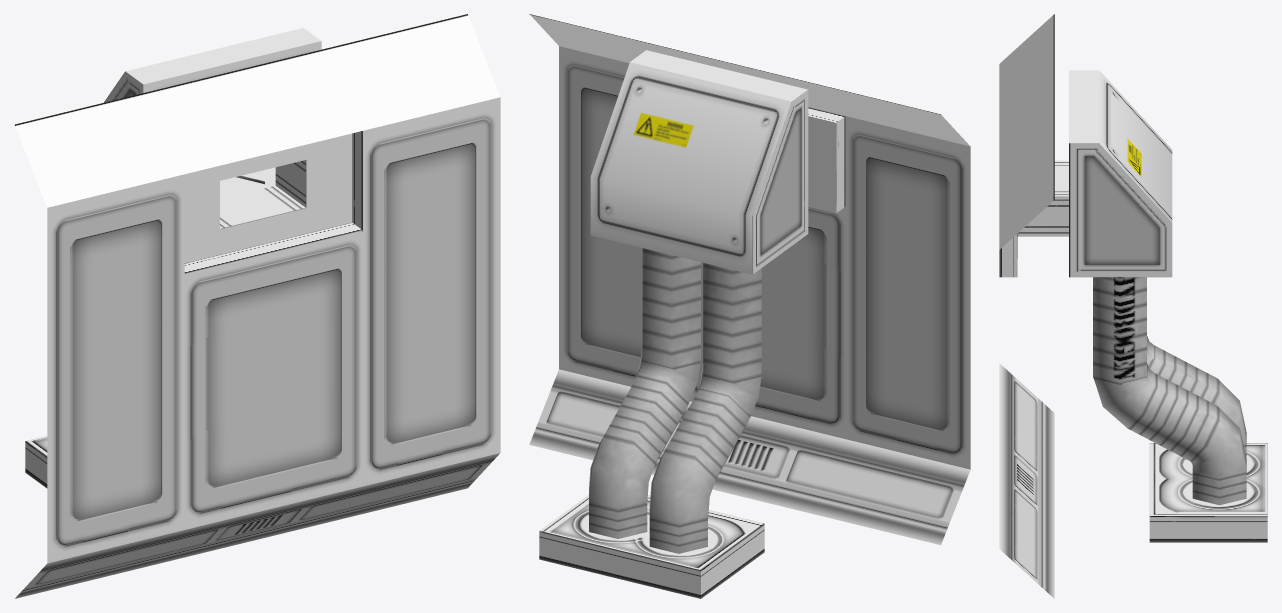
The model's file is Sect_Wall_10_Coolant.FBX.
The picture shows the model from 3 angles, left to right: view 1: azimuth 30°, elevation 25°; view 2: azimuth 150°, elevation 25°; view 3: azimuth 270°, elevation 25°; orthographic projection. The views are drawn at different scales.
Visible parts, largest first — view 1: Wall_10_Coolant; view 2: Wall_10_Coolant; view 3: Wall_10_Coolant.
Part boxes in pixels (bbox=[...]): Wall_10_Coolant: bbox=[15, 14, 500, 598]; Wall_10_Coolant: bbox=[529, 14, 970, 598]; Wall_10_Coolant: bbox=[999, 14, 1267, 598].
Bounding box in the file's own units: 4 × 4 × 2.44.
